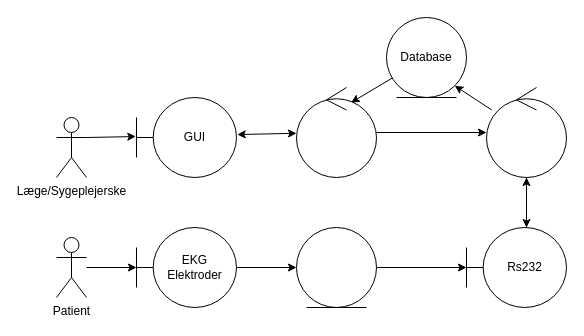
The diagram is 584 pixels wide and 336 high, and some of its shapes have lost their labels. Each missing label, with the centre of its shape:
"Algoritmer" belongs at pixel 526 132.
"Arduino" belongs at pixel 336 267.
"Controller" belongs at pixel 336 132.
